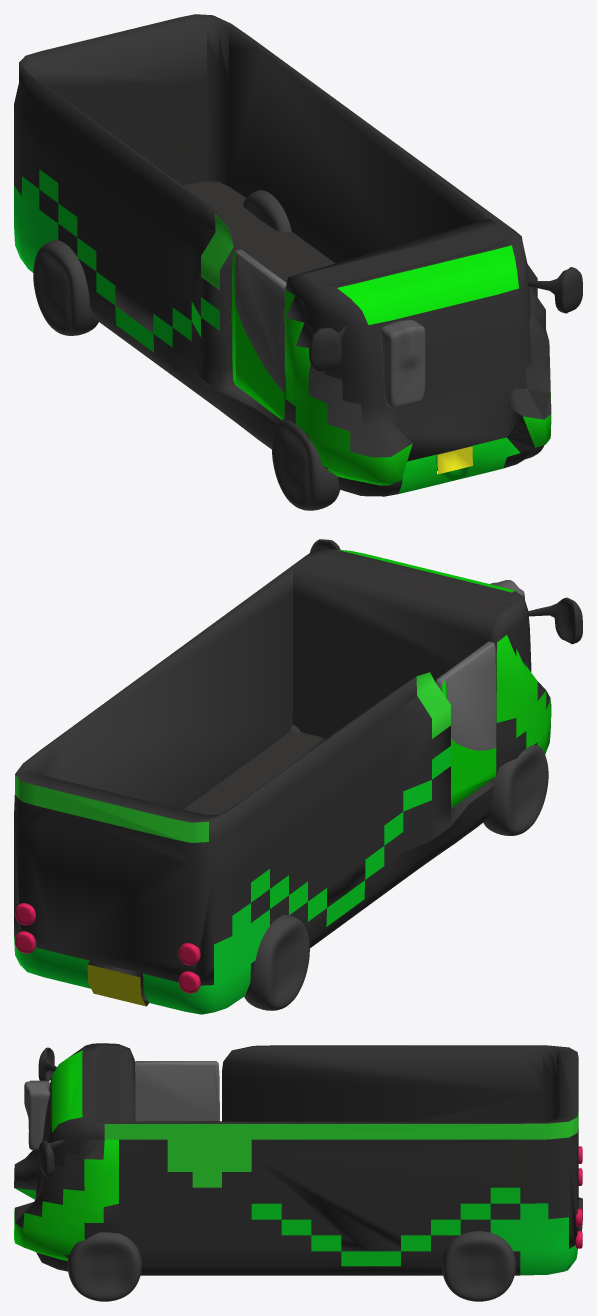
Rendered from bus.fbx.
3 views of the same model, one above another, from view 1: azimuth 30°, elevation 25°; view 2: azimuth 150°, elevation 25°; view 3: azimuth 270°, elevation 25° (orthographic). The views are drawn at different scales.
Visible parts, largest first — view 1: Bus, Wheel.001, Door, TopHead.001, Pincers.001, BodyLine.001, Decor.001, FrontBumper.001, Mirror.001, BackBumper.001, TopRim.001, FrontPlate.001; view 2: Bus, Wheel.001, BackBumper.001, Door, TopRim.001, BodyLine.001, Pincers.001, Light.001, Mirror.001, Plate.001; view 3: Bus, TopRim.001, Wheel.001, Pincers.001, Door, BodyLine.001, BackBumper.001, TopHead.001, Decor.001, Mirror.001, Light.001.
Part boxes in pixels (x1,y1,x2,y2): Bus: (14, 14, 551, 496); Wheel.001: (33, 190, 544, 510); Door: (231, 249, 286, 419); TopHead.001: (337, 245, 518, 324); Pincers.001: (284, 289, 551, 485); BodyLine.001: (39, 169, 219, 352); Decor.001: (380, 319, 425, 408); FrontBumper.001: (398, 437, 519, 493); Mirror.001: (309, 267, 582, 371); BackBumper.001: (14, 176, 58, 272); TopRim.001: (201, 213, 233, 290); FrontPlate.001: (437, 446, 472, 474); Bus: (14, 548, 551, 1006); Wheel.001: (244, 724, 548, 1010); BackBumper.001: (14, 903, 269, 1014); Door: (435, 641, 496, 808); TopRim.001: (15, 672, 450, 842); BodyLine.001: (251, 746, 450, 926); Pincers.001: (496, 635, 551, 754); Light.001: (14, 903, 200, 993); Mirror.001: (310, 539, 582, 644); Plate.001: (87, 964, 146, 1006); Bus: (14, 1043, 582, 1275); TopRim.001: (104, 1112, 578, 1187); Wheel.001: (67, 1231, 515, 1301); Pincers.001: (14, 1139, 118, 1261); Door: (135, 1061, 219, 1121); BodyLine.001: (251, 1187, 520, 1266); BackBumper.001: (490, 1203, 577, 1275); TopHead.001: (51, 1050, 82, 1132); Decor.001: (24, 1080, 50, 1150); Mirror.001: (38, 1047, 63, 1177); Light.001: (575, 1146, 582, 1248).
Bounding box in the file's own units: 613 × 484 × 1417.
